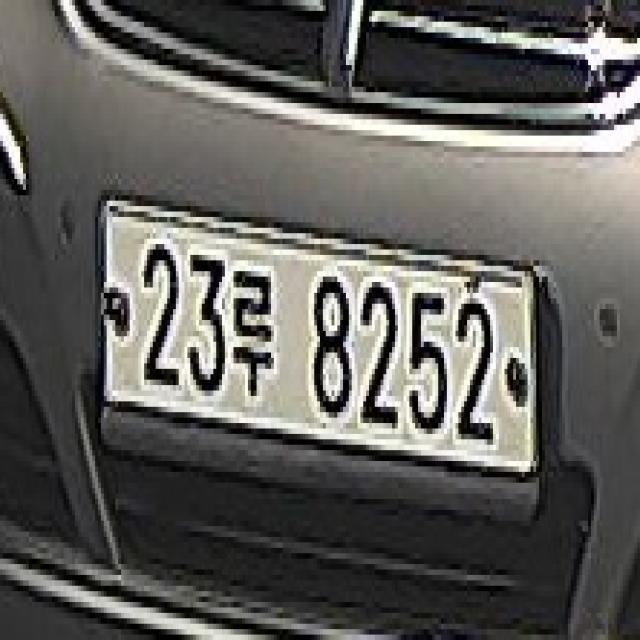plat: (94, 188, 557, 510)
